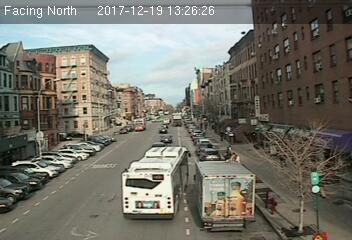bus: (121, 146, 192, 222)
car: (198, 147, 219, 160), (160, 134, 172, 142)
truck: (195, 159, 255, 231)
